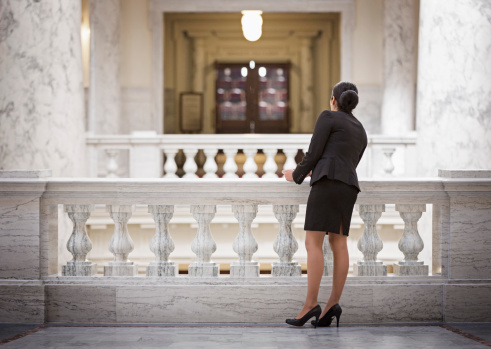em pe: (296, 86, 364, 325)
